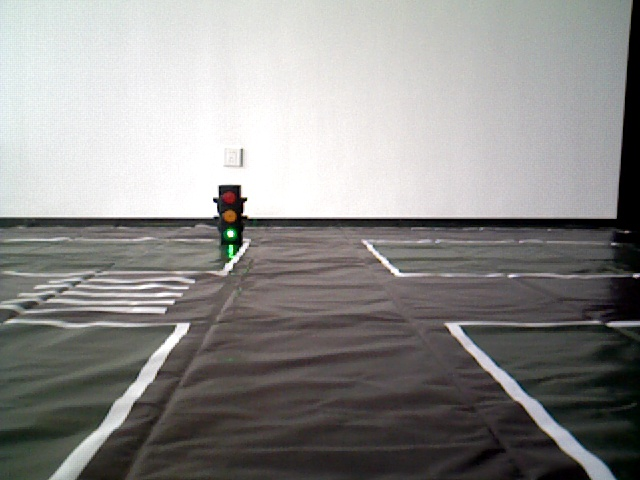green: (219, 183, 240, 240)
